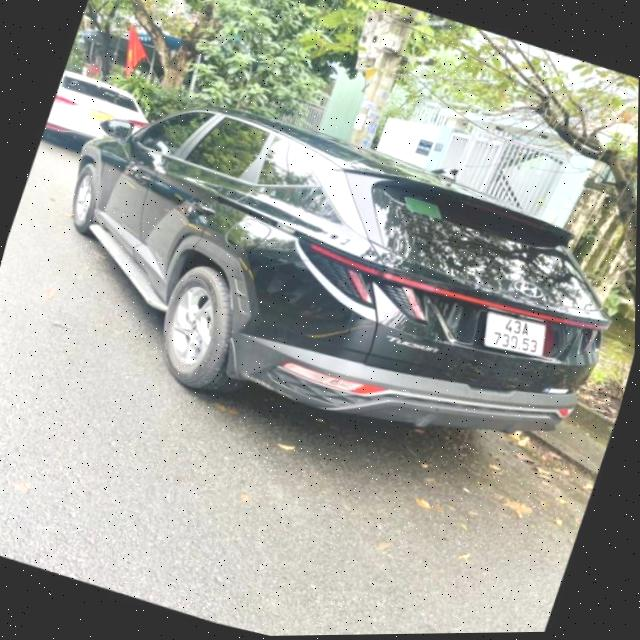car: (19, 71, 635, 501), (37, 61, 160, 171)
plate: (473, 300, 558, 366)
